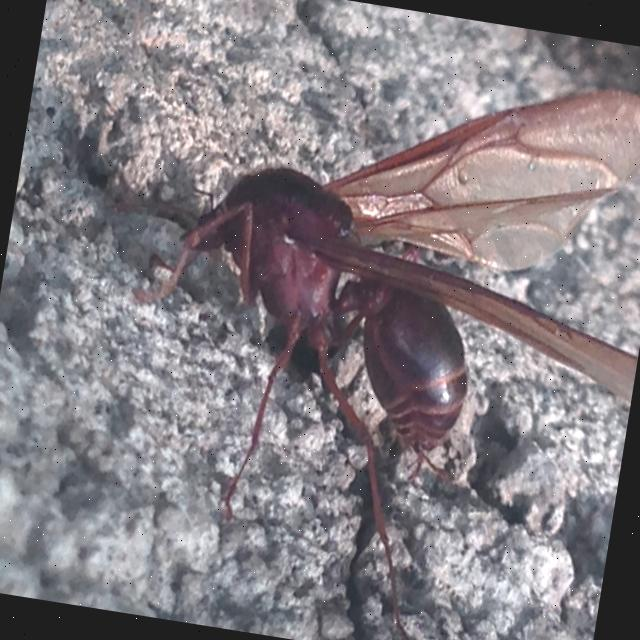Alive-Male-Alate: (82, 17, 640, 640)
